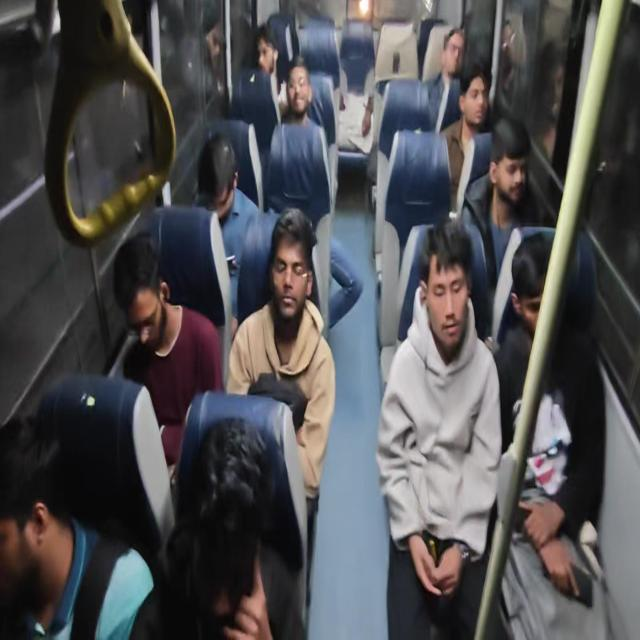person: (3, 2, 619, 637), (375, 218, 503, 638), (492, 228, 607, 638), (226, 206, 336, 604), (0, 413, 159, 639), (164, 415, 305, 639), (112, 231, 224, 473), (268, 55, 363, 330), (460, 115, 540, 341), (192, 131, 261, 328), (492, 234, 552, 453), (267, 55, 332, 226), (439, 62, 493, 216), (235, 24, 280, 124), (531, 39, 567, 162), (426, 27, 466, 132), (254, 23, 279, 76)
